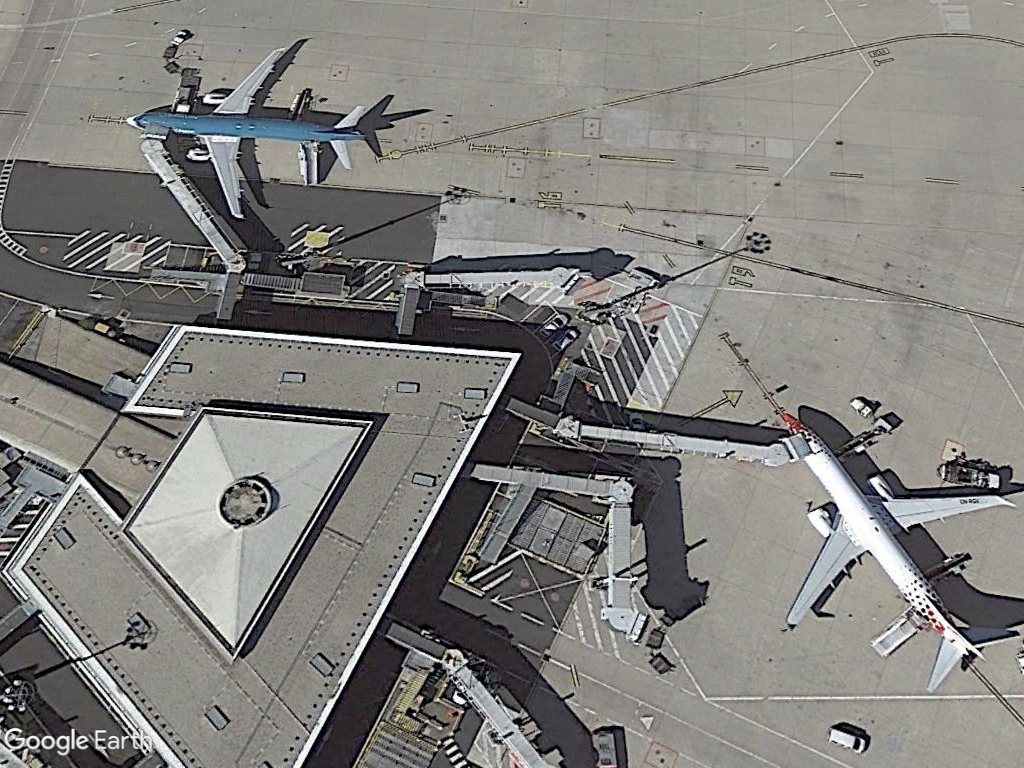airliner: (758, 409, 1023, 694), (121, 60, 373, 219)
van: (823, 725, 869, 755)
